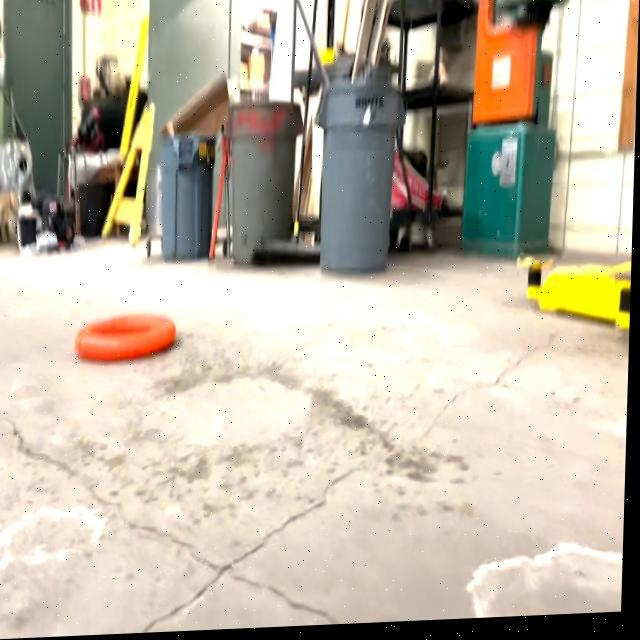note: (74, 308, 181, 367)
